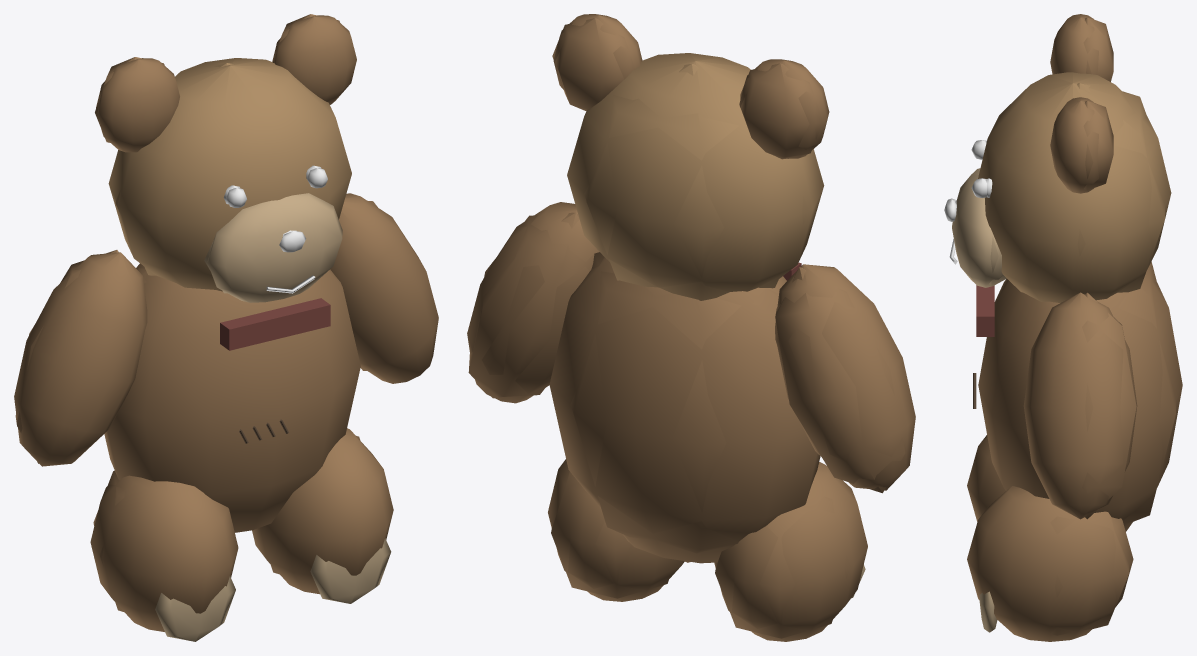
File: inspect_toy_teddy.glb
3 views of the same model, side by side, from view 1: azimuth 30°, elevation 25°; view 2: azimuth 150°, elevation 25°; view 3: azimuth 270°, elevation 25° (orthographic). The views are drawn at different scales.
Visible parts, largest first — view 1: inspect_toy_teddy-0, inspect_toy_teddy-2, inspect_toy_teddy_lod-0, inspect_toy_teddy-1, inspect_toy_teddy_lod-2; view 2: inspect_toy_teddy-0, inspect_toy_teddy_lod-0; view 3: inspect_toy_teddy-0, inspect_toy_teddy_lod-0, inspect_toy_teddy-1, inspect_toy_teddy-2, inspect_toy_teddy_lod-2.
Boxes of the visible parts, <box> form: inspect_toy_teddy-0: <box>14,15,438,641</box>; inspect_toy_teddy-2: <box>223,300,330,350</box>; inspect_toy_teddy_lod-0: <box>15,14,377,611</box>; inspect_toy_teddy-1: <box>226,168,327,293</box>; inspect_toy_teddy_lod-2: <box>220,298,324,346</box>; inspect_toy_teddy-0: <box>467,14,915,641</box>; inspect_toy_teddy_lod-0: <box>468,18,905,638</box>; inspect_toy_teddy-0: <box>952,14,1182,641</box>; inspect_toy_teddy_lod-0: <box>989,17,1175,635</box>; inspect_toy_teddy-1: <box>944,140,986,264</box>; inspect_toy_teddy-2: <box>976,285,987,336</box>; inspect_toy_teddy_lod-2: <box>983,286,994,336</box>.
Size of the model in its own units: 0.1221 by 0.158 by 0.063.
